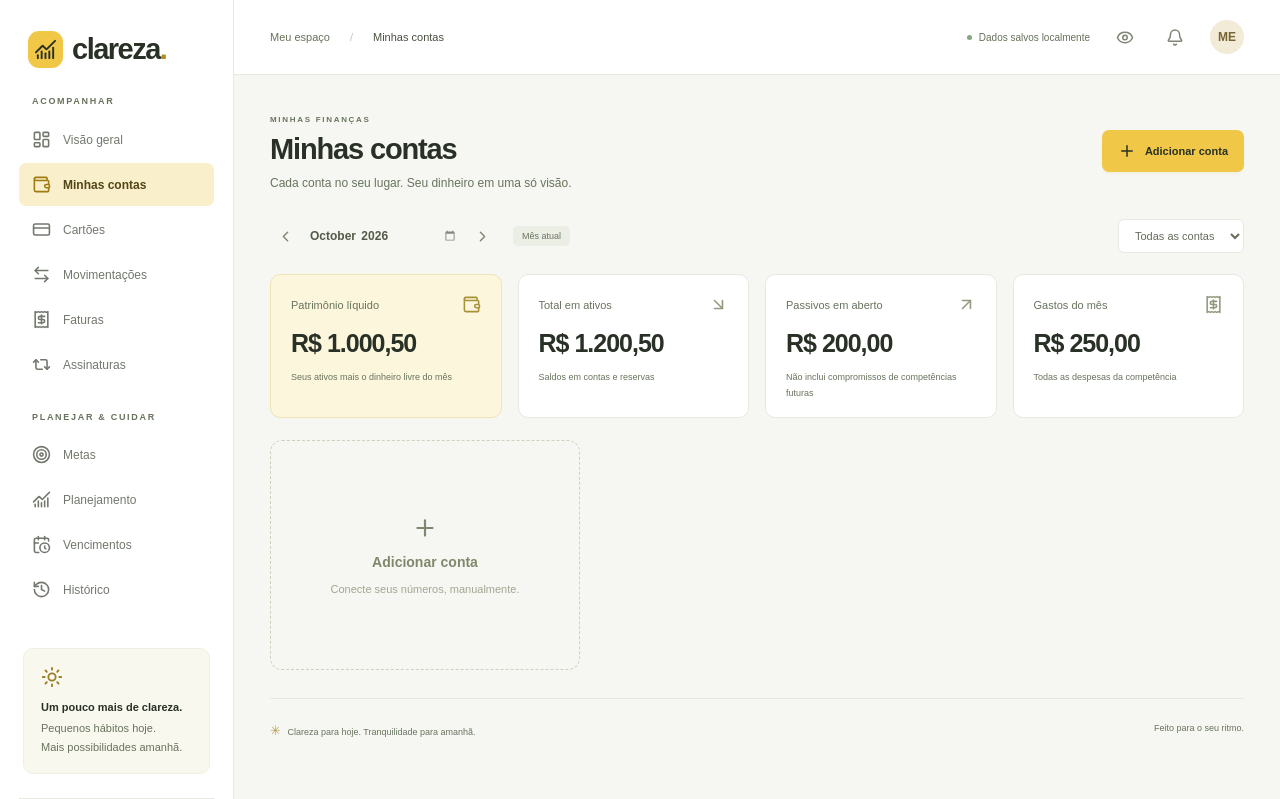
Scenario: Fluxos principais › exibe erros de validação retornados pelo servidor
Check: the text "R$ 1.000,50" is shown, box [291,329,416,357]
Step 1. Click the button "Adicionar conta" → [1173, 151], box [1102,130,1244,172]
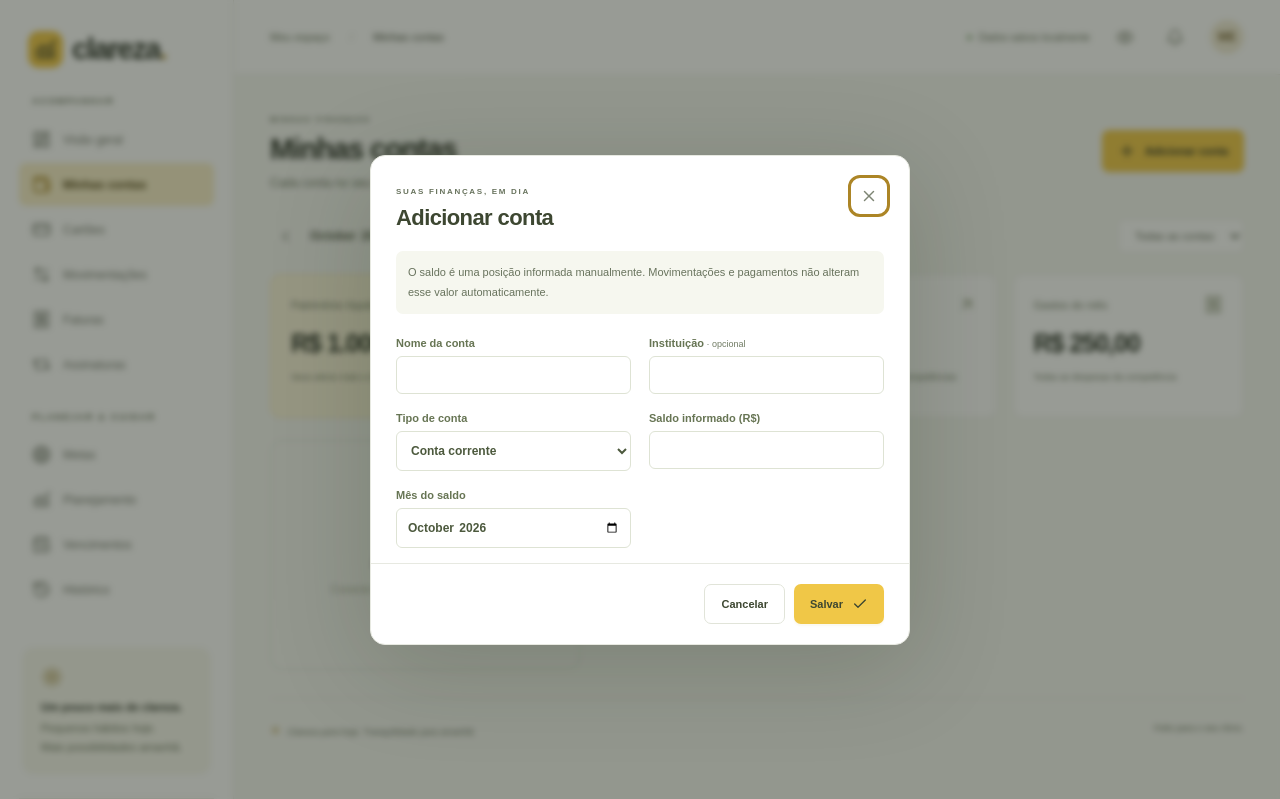
Step 2. Type "Teste" into the field labelled "Nome da conta" → [514, 375], box [396,356,631,394]
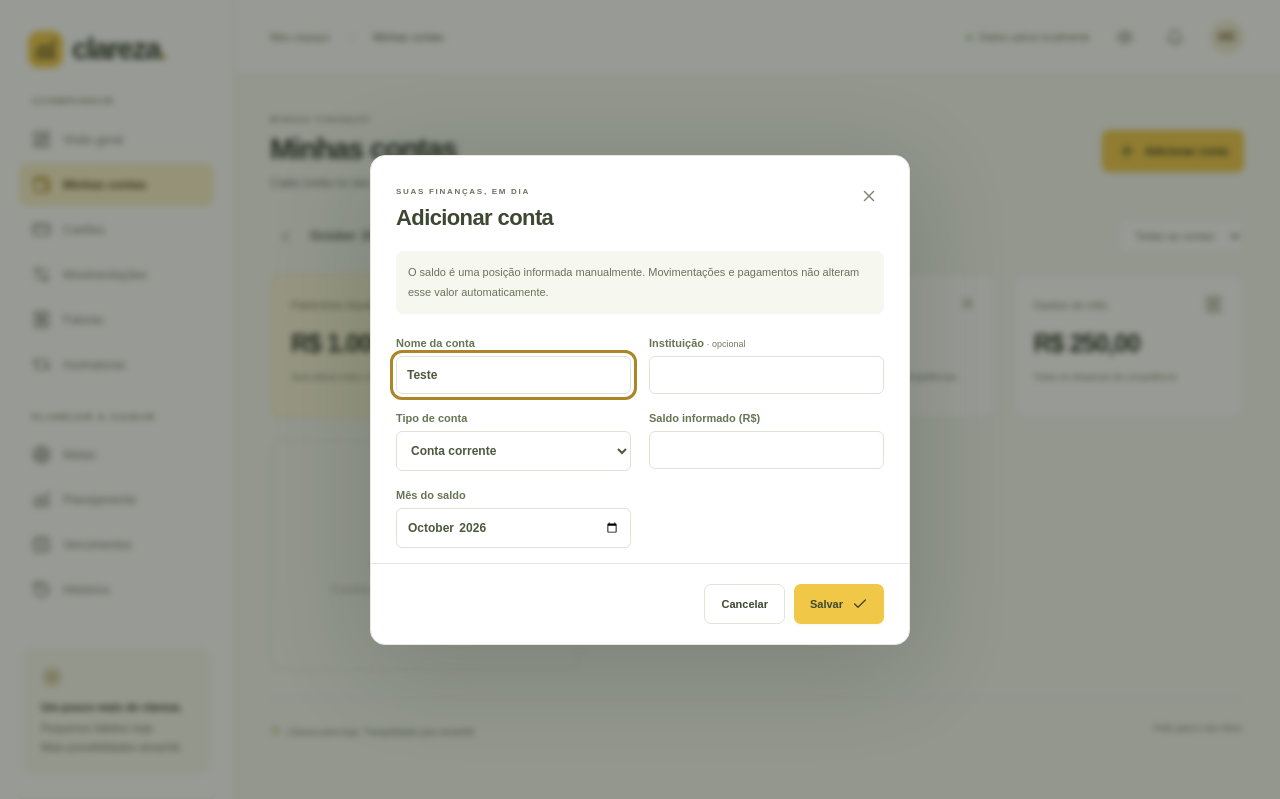
Step 3. Type "20" into the number field labelled "Saldo informado (R$)" → [766, 450], box [649,431,884,469]
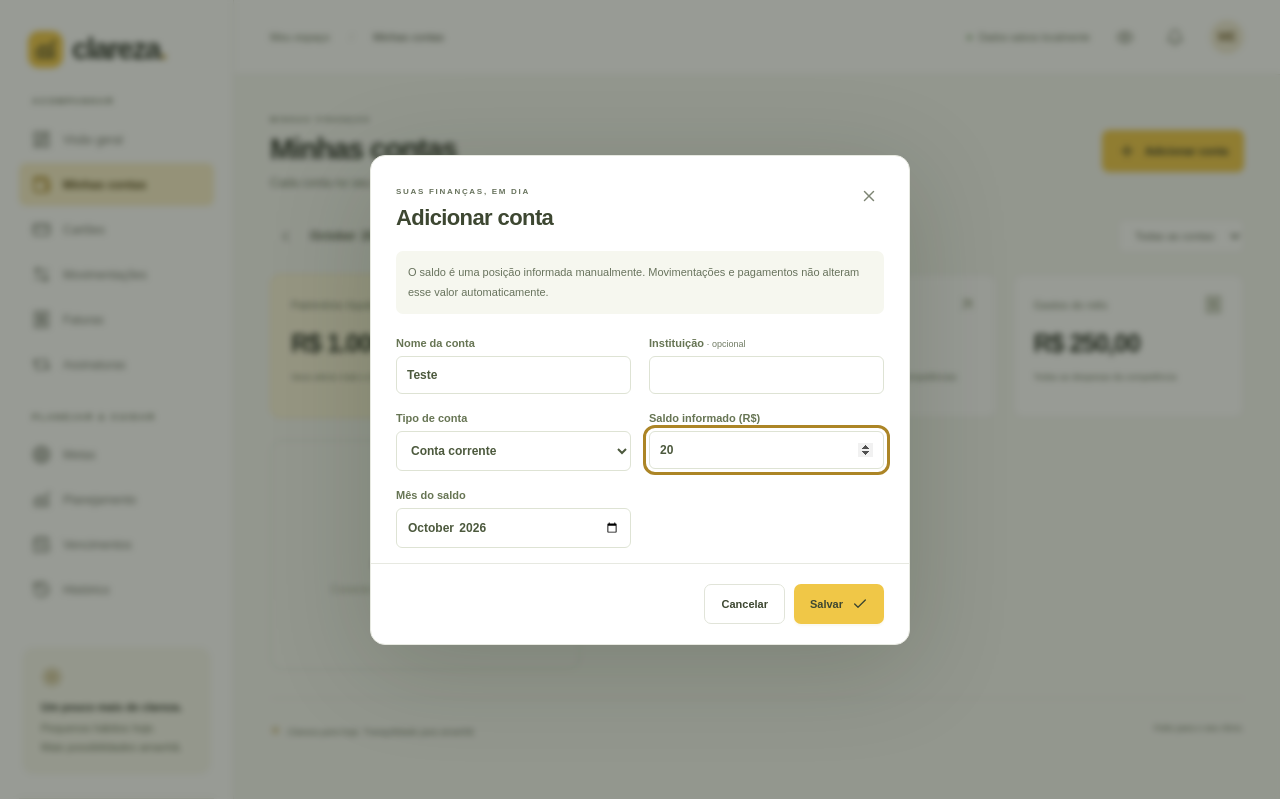
Step 4. Click the button "Salvar" → [839, 604], box [794,584,884,624]
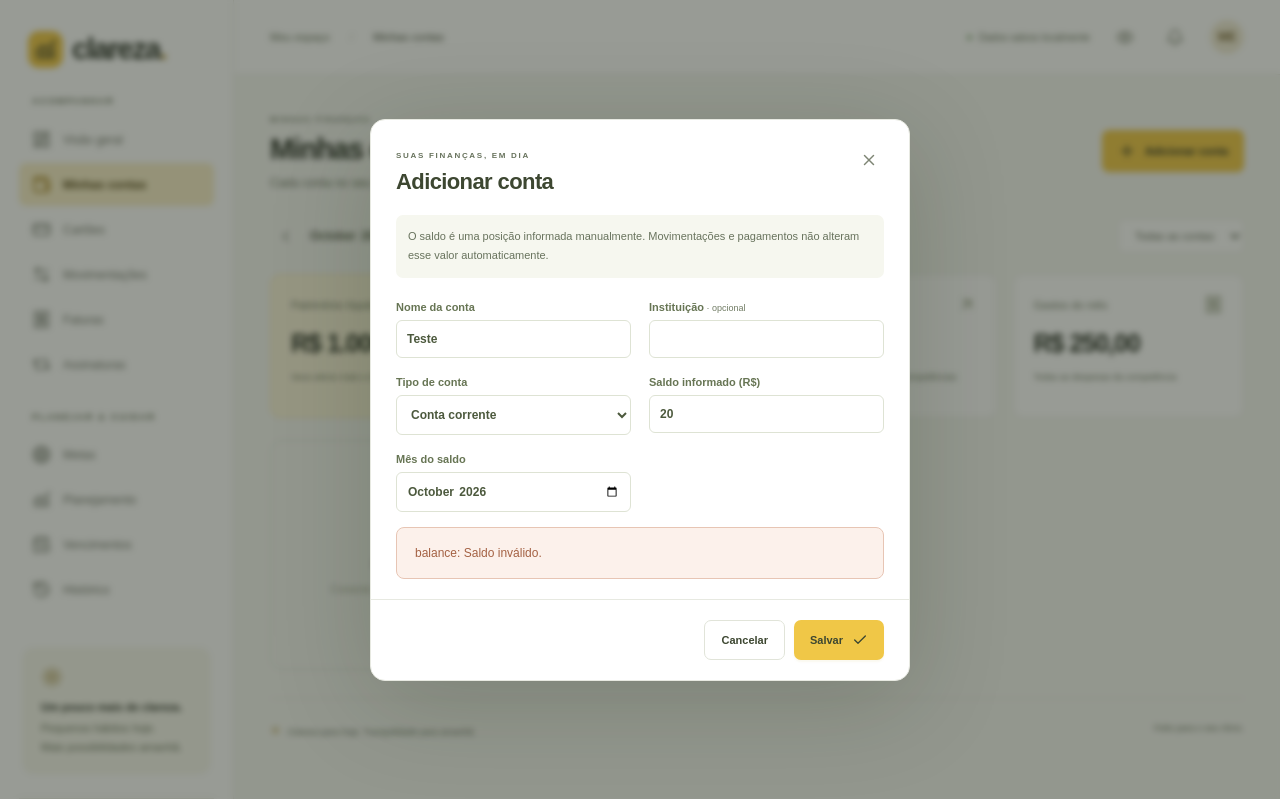
Check: the button "Salvar" is enabled, box [794,620,884,660]
Check: the message shows "Saldo inválido.", box [415,546,542,560]
